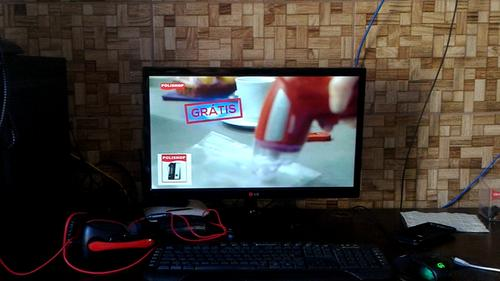Polishop #1: (158, 153, 192, 186)
